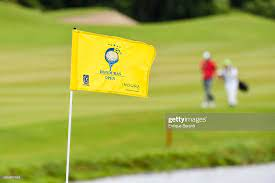Flag: (71, 26, 156, 97)
